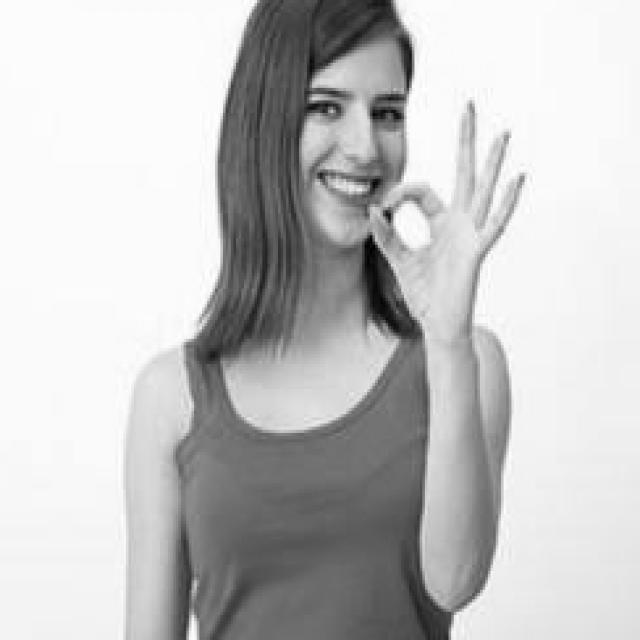perfect: (362, 87, 533, 355)
